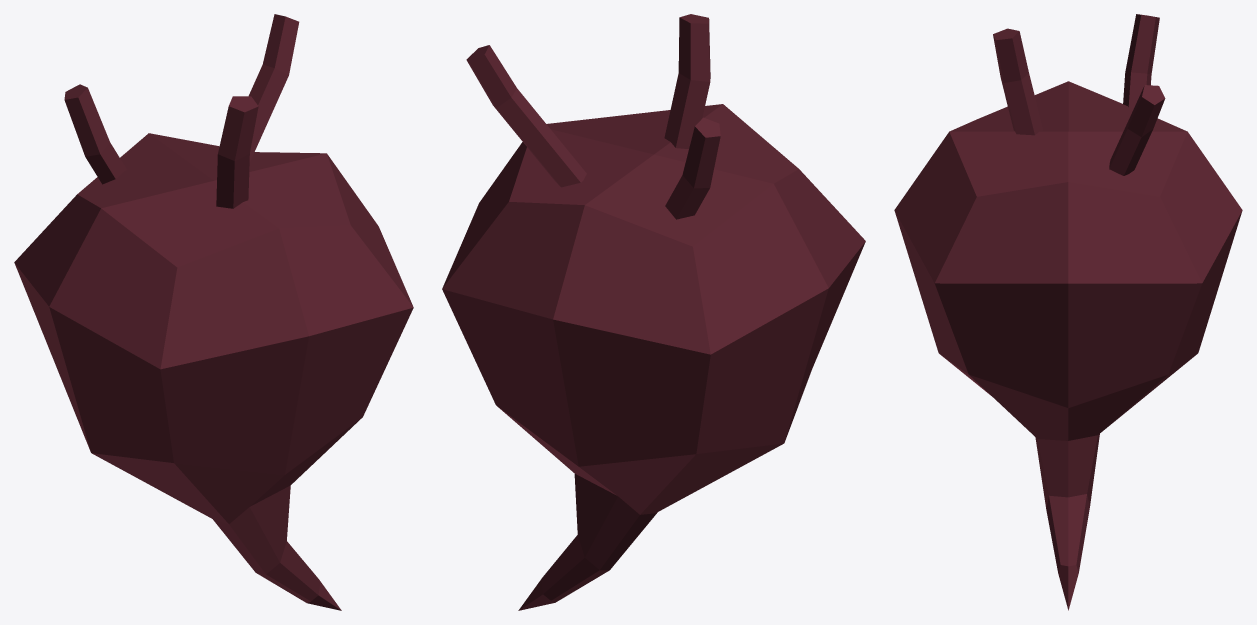
File: beet_crop.gltf
The picture shows the model from 3 angles, left to right: view 1: azimuth 30°, elevation 25°; view 2: azimuth 150°, elevation 25°; view 3: azimuth 270°, elevation 25°; orthographic projection. The views are drawn at different scales.
Parts seen in each view (by area): view 1: beet_crop; view 2: beet_crop; view 3: beet_crop.
Part boxes in pixels (<box>): beet_crop: <box>14,14,413,610</box>; beet_crop: <box>442,14,865,610</box>; beet_crop: <box>894,14,1242,610</box>.
Bounding box in the file's own units: 0.3156 × 0.5194 × 0.3156.
Materials: 1 (1 with a texture image).
